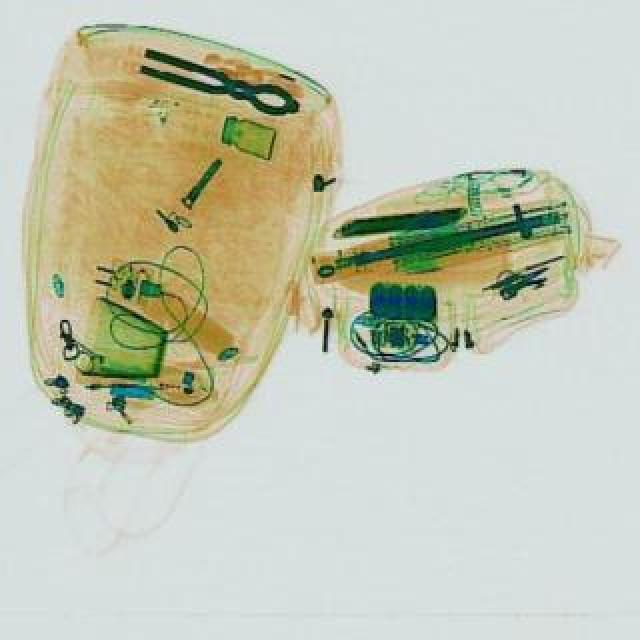wrench: (136, 48, 304, 128)
